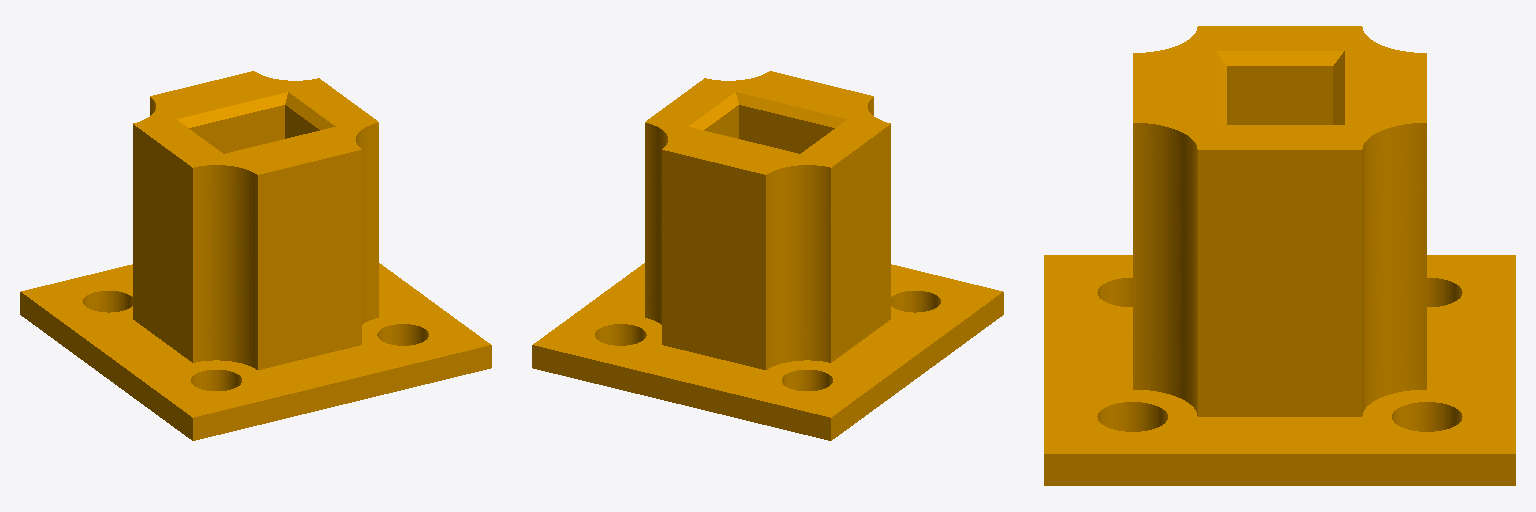
URDF robot description (industreal_tray_insert_rectangular_peg_12mm):
<?xml version="1.0"?>
<robot name="industreal_tray_insert_rectangular_peg_12mm">
    <link name="industreal_tray_insert_rectangular_peg_12mm">
        <visual>
            <geometry>
                <mesh filename="../mesh/industreal_pegs/industreal_tray_insert_rectangular_peg_12mm.obj"/>
            </geometry>
        </visual>
        <collision>
            <geometry>
                <mesh filename="../mesh/industreal_pegs/industreal_tray_insert_rectangular_peg_12mm.obj"/>
            </geometry>
            <sdf resolution="256"/>
        </collision>
    </link>
</robot>

--- What the picture shows (computed from the rendered views, not written in the file) ---
3 views of the same robot in one strip: view 1: azimuth 30°, elevation 25°; view 2: azimuth 150°, elevation 25°; view 3: azimuth 270°, elevation 25° (orthographic).
Model industreal_tray_insert_rectangular_peg_12mm with 1 links and 0 joints (none), rooted at industreal_tray_insert_rectangular_peg_12mm, posed every joint at zero.
Visible links, largest first — view 1: industreal_tray_insert_rectangular_peg_12mm; view 2: industreal_tray_insert_rectangular_peg_12mm; view 3: industreal_tray_insert_rectangular_peg_12mm.
Link boxes in pixels (box(x1,y1,x2,y2)): industreal_tray_insert_rectangular_peg_12mm: box(20, 71, 491, 440); industreal_tray_insert_rectangular_peg_12mm: box(532, 71, 1003, 440); industreal_tray_insert_rectangular_peg_12mm: box(1044, 26, 1515, 485).
Bounding box of the posed robot: 0.04 × 0.04 × 0.028 m (x, y, z).
Meshes: 1 distinct files referenced, 1 mesh visuals loaded (1 OBJ).